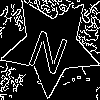N: (26, 21, 74, 76)
